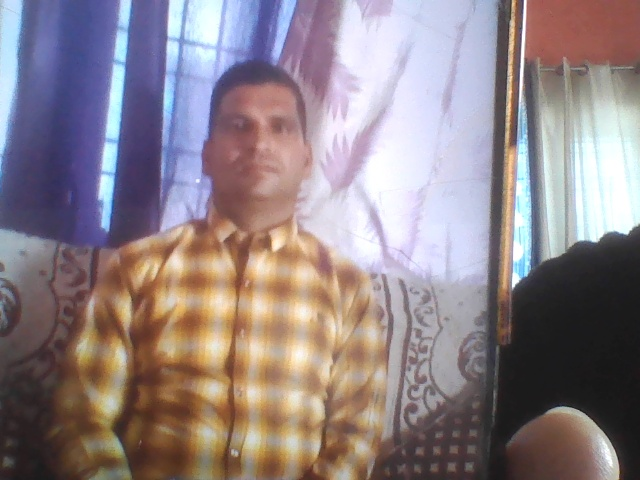fake: (208, 48, 318, 204)
